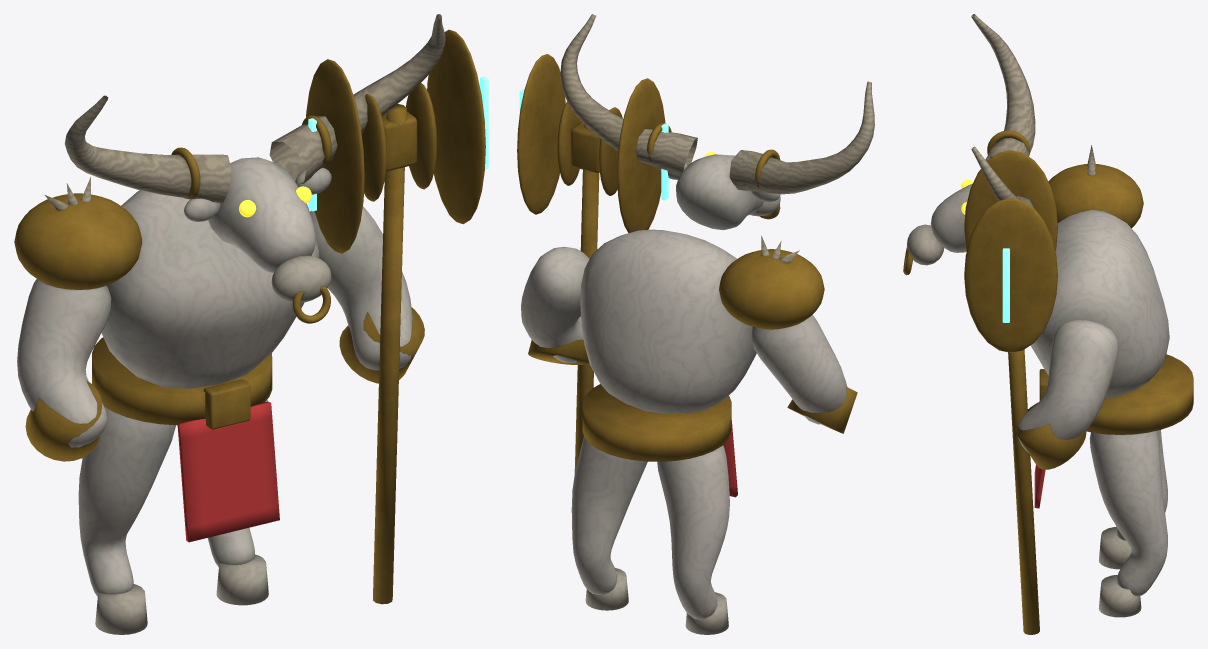
Rendered from minotaure.glb.
3 views of the same model, side by side, from view 1: azimuth 30°, elevation 25°; view 2: azimuth 150°, elevation 25°; view 3: azimuth 270°, elevation 25° (orthographic). The views are drawn at different scales.
Parts seen in each view (by area): view 1: body, team, ether; view 2: body, team; view 3: body, ether.
Part boxes in pixels (left/top/right/bottom): body: left=14, top=14, right=485, bottom=634; team: left=177, top=401, right=279, bottom=542; ether: left=308, top=76, right=488, bottom=211; body: left=517, top=14, right=874, bottom=634; team: left=723, top=420, right=737, bottom=497; body: left=903, top=14, right=1193, bottom=634; ether: left=1002, top=248, right=1009, bottom=322.
Bounding box in the file's own units: 1.35 × 1.88 × 0.9794.
4 materials, 1 textured.
